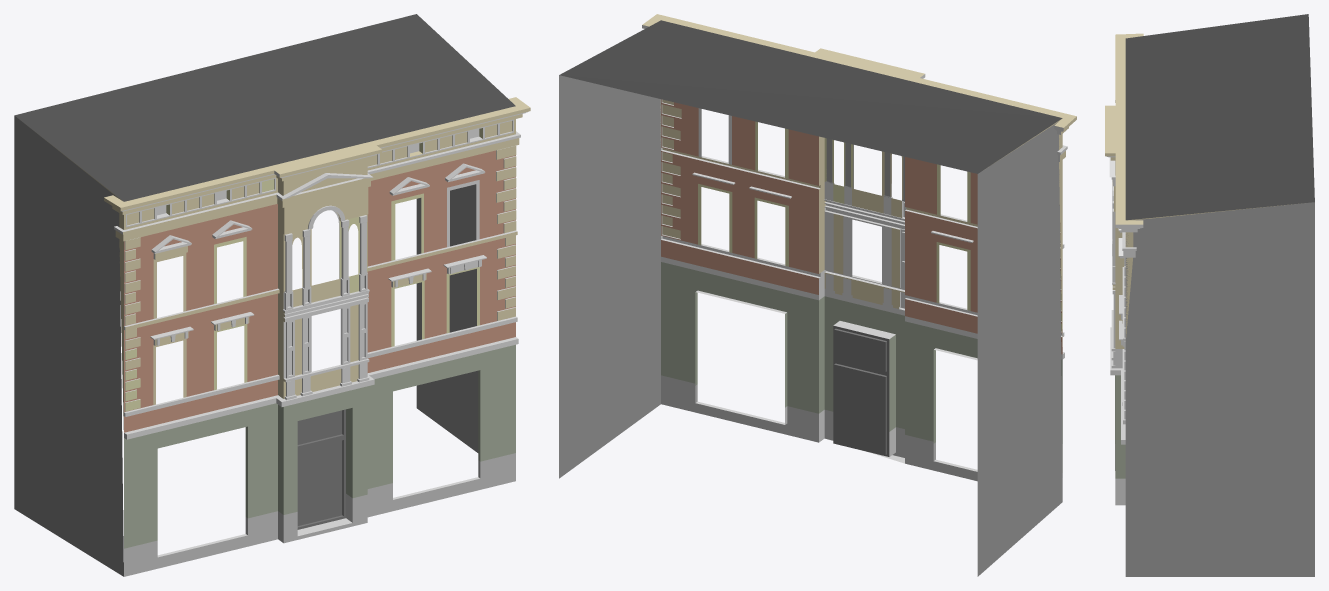
File: Building.fbx
3 renders of one model, left to right at view 1: azimuth 30°, elevation 25°; view 2: azimuth 150°, elevation 25°; view 3: azimuth 270°, elevation 25°, orthographic. The views are drawn at different scales.
Parts seen in each view (by area): view 1: Camera_001; view 2: Camera_001; view 3: Camera_001.
Part boxes in pixels (bbox=[...]): Camera_001: bbox=[14, 14, 530, 576]; Camera_001: bbox=[559, 14, 1076, 576]; Camera_001: bbox=[1105, 14, 1314, 576].
Bounding box in the file's own units: 64.44 × 58.54 × 29.72.
